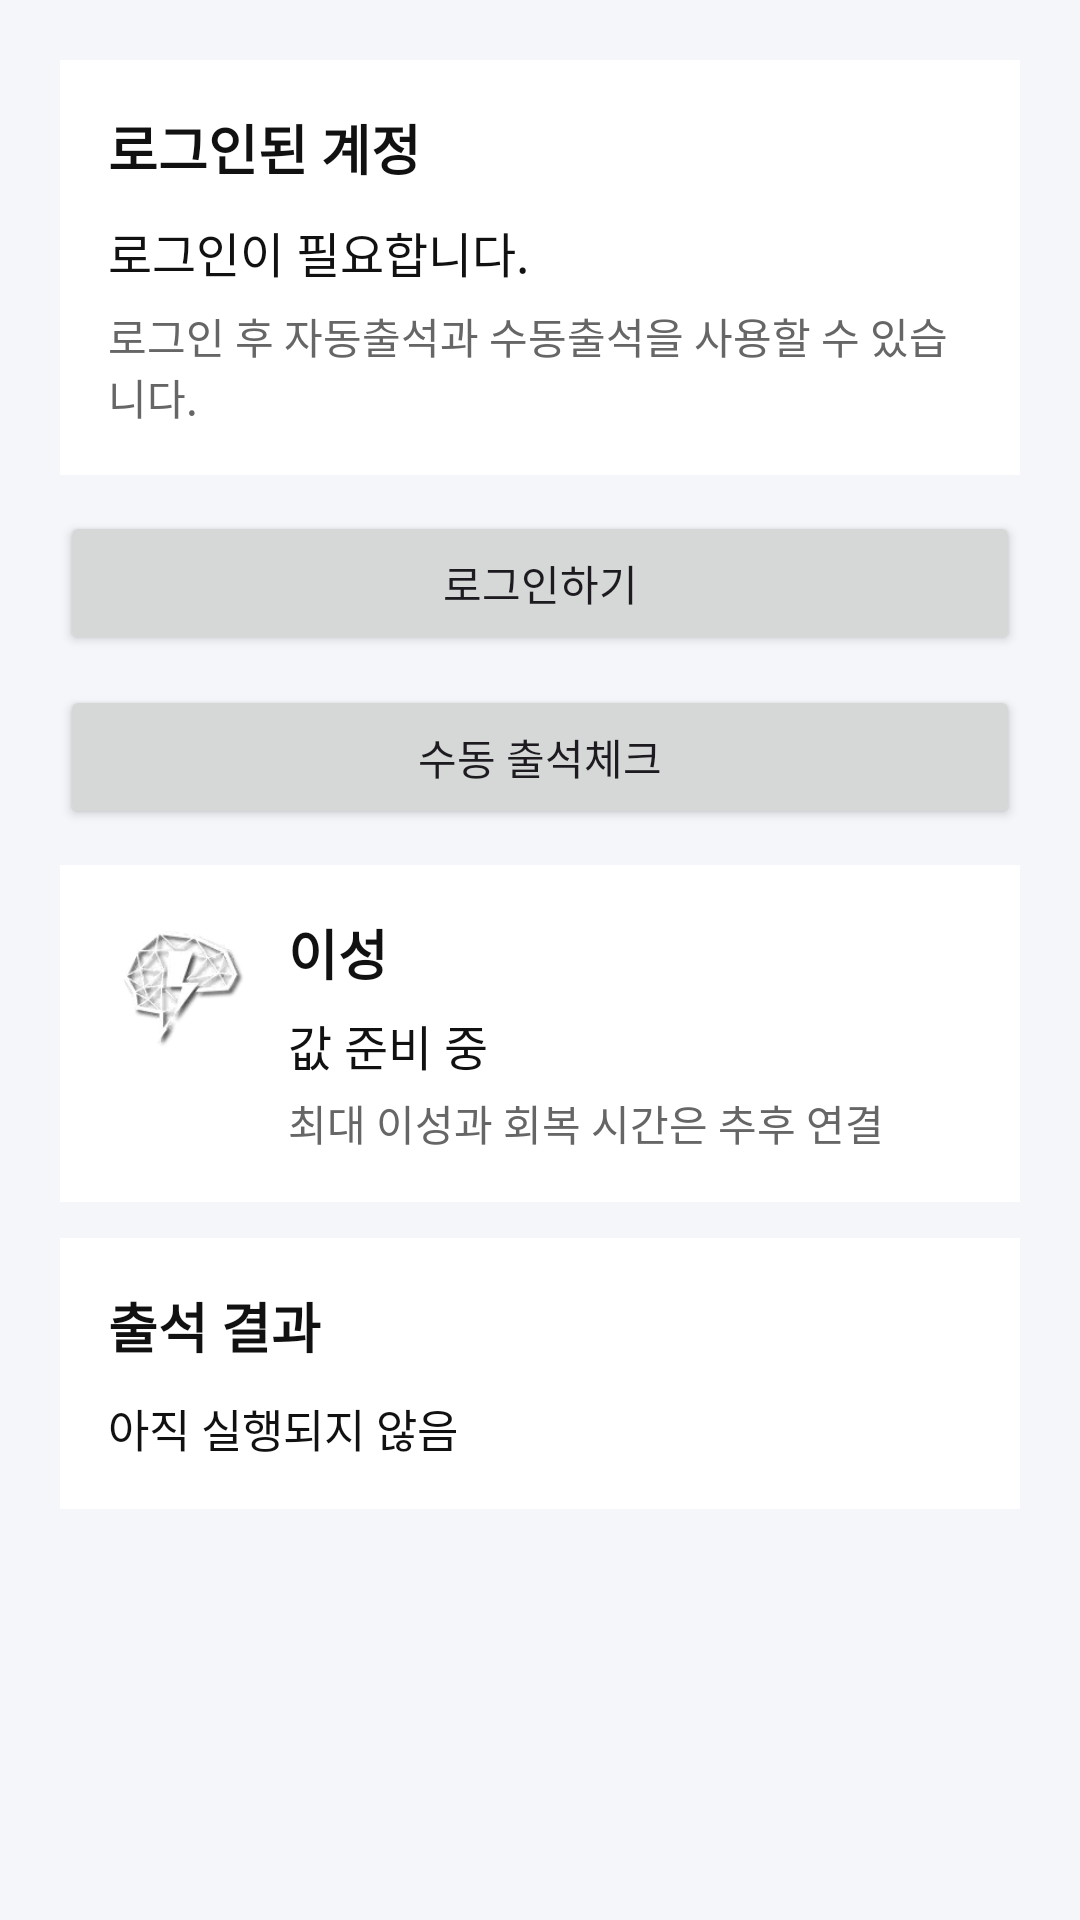

Where icons sit on this 1080x1920 app screen, as (x1, y1, x2, y2):
sanity: (125, 935, 242, 1044)
